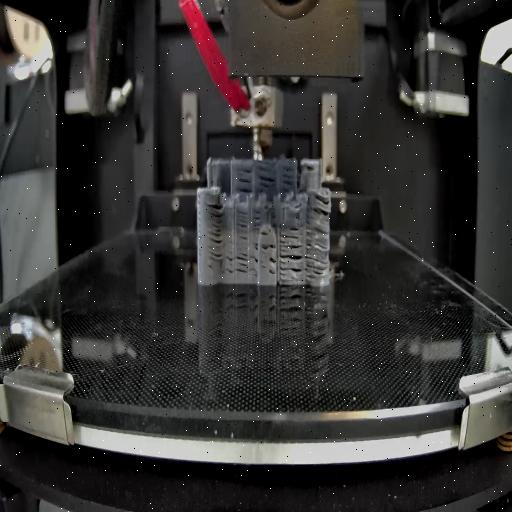cracks: (306, 228, 330, 276), (206, 202, 224, 264), (280, 244, 302, 278), (255, 164, 275, 192), (308, 194, 330, 218), (236, 166, 252, 194), (280, 166, 294, 192), (279, 222, 299, 240), (236, 208, 246, 240), (234, 252, 248, 274), (250, 242, 258, 278), (224, 248, 234, 276), (250, 208, 262, 228), (268, 207, 278, 229), (267, 257, 276, 275), (260, 242, 276, 252), (302, 165, 316, 173), (258, 230, 268, 238)
